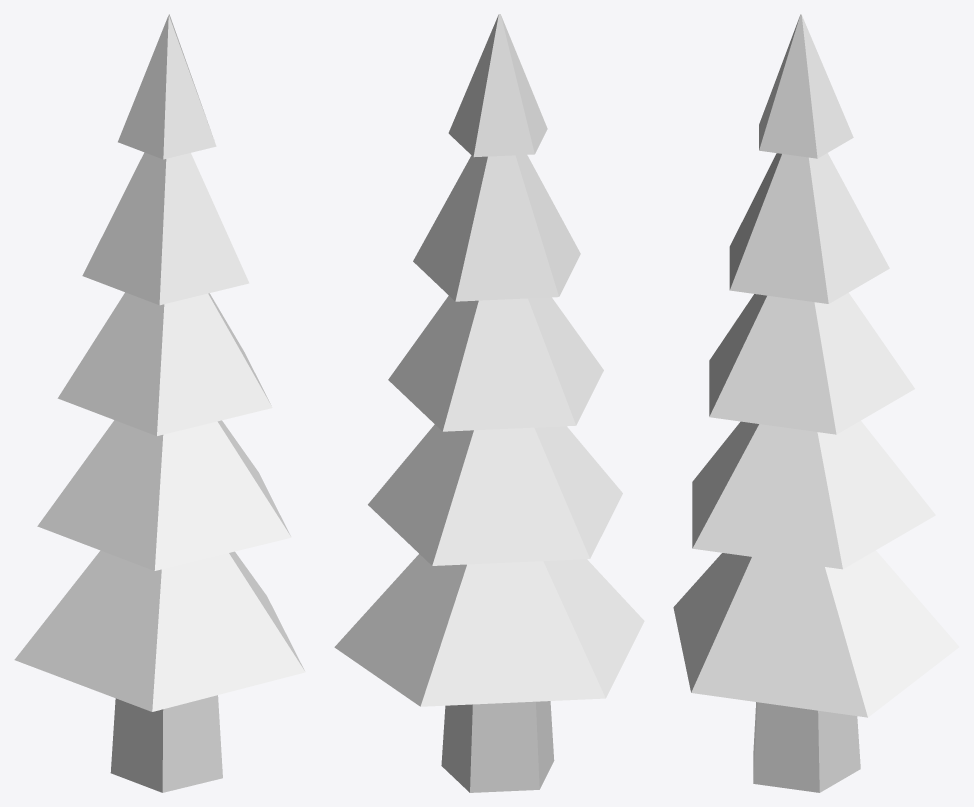
Rendered from tree.spruce.medium.glb.
The picture shows the model from 3 angles, left to right: view 1: azimuth 30°, elevation 25°; view 2: azimuth 150°, elevation 25°; view 3: azimuth 270°, elevation 25°; orthographic projection.
Parts seen in each view (by area): view 1: spruce.medium; view 2: spruce.medium; view 3: spruce.medium.
Boxes of the visible parts, left/top/right/bottom form: spruce.medium: left=14, top=14, right=305, bottom=792; spruce.medium: left=334, top=14, right=644, bottom=792; spruce.medium: left=673, top=14, right=958, bottom=792.
Bounding box in the file's own units: 2.19 × 6.02 × 2.07.
1 material, 1 textured.
